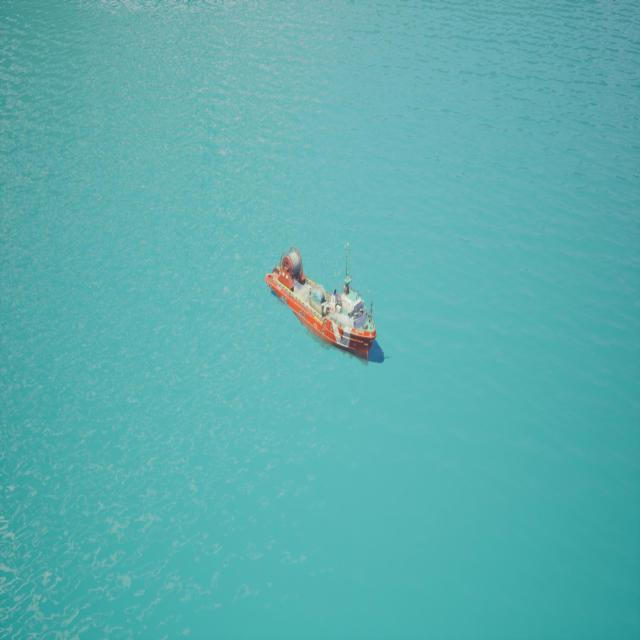tug boat: (269, 208, 400, 382)
